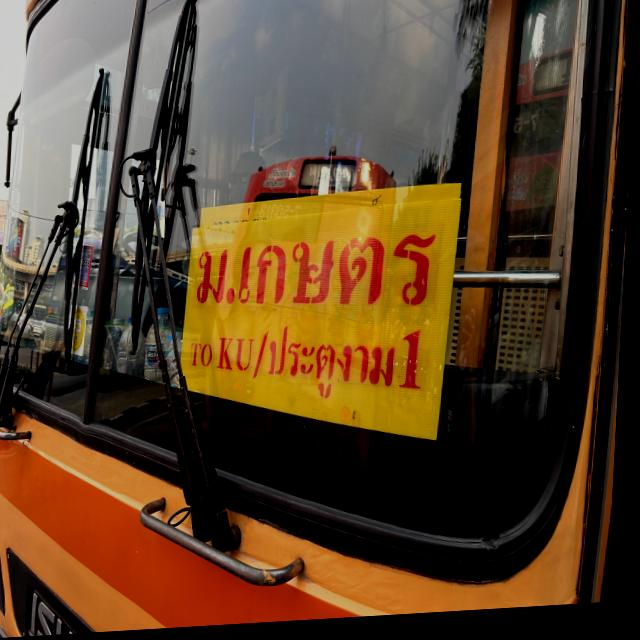BMTA-bus: (0, 0, 640, 640)
Destination Sign: (182, 190, 457, 464)
